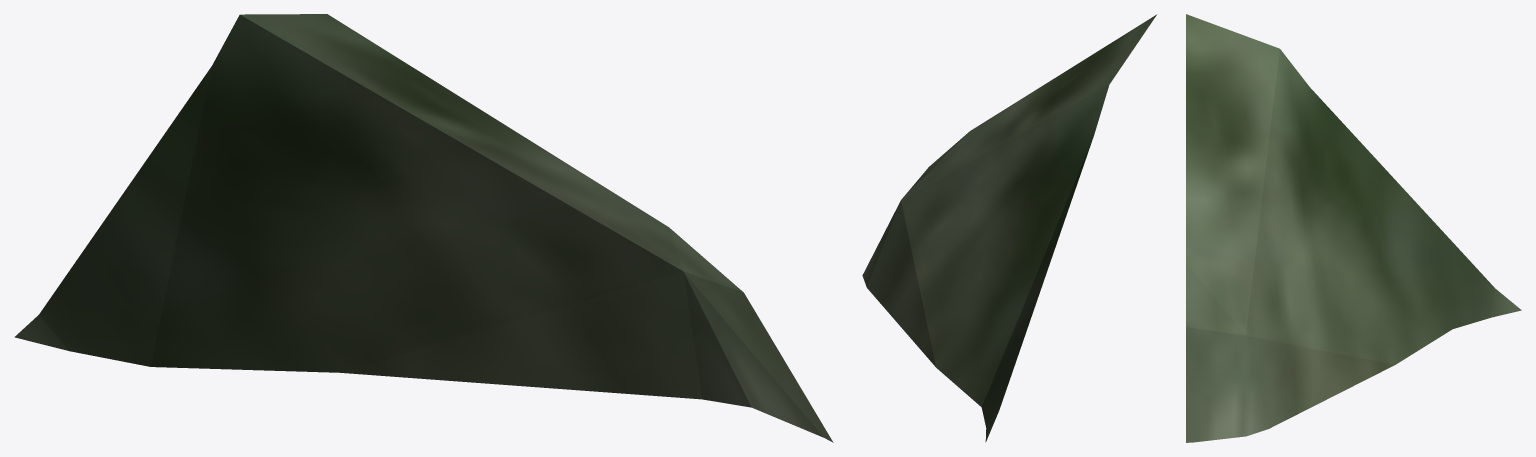
3 views of the same model, side by side, from view 1: azimuth 30°, elevation 25°; view 2: azimuth 150°, elevation 25°; view 3: azimuth 270°, elevation 25° (orthographic). The views are drawn at different scales.
Size of the model in its own units: 0.4071 by 0.4245 by 0.4361.
Materials: 1 (1 with a texture image).
